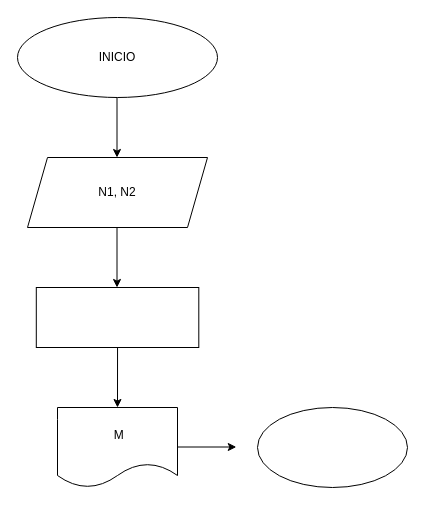
The diagram is 425 pixels wide and 505 high, and some of its shapes have lost their labels. Here are the shapes that lost their labels. From the top down, the centre of each, then its label:
the point at 117,317: M= N1*N2
the point at 332,447: FIM
